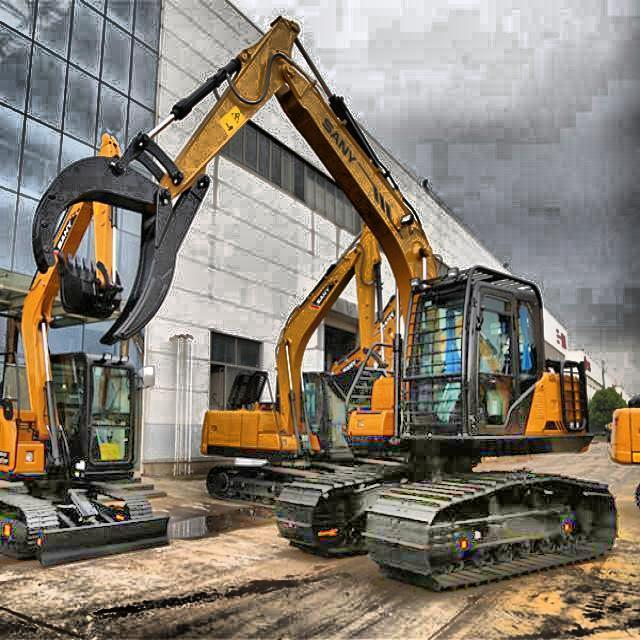excavator: (31, 19, 621, 598), (0, 130, 174, 574), (199, 222, 415, 564)
